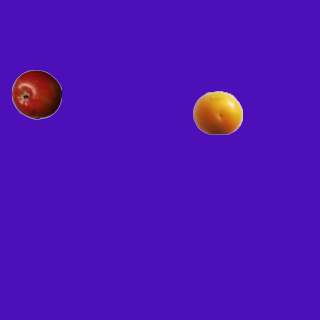Apple Braeburn: (11, 69, 61, 119)
Cherry Wax Yellow: (192, 87, 242, 137)
